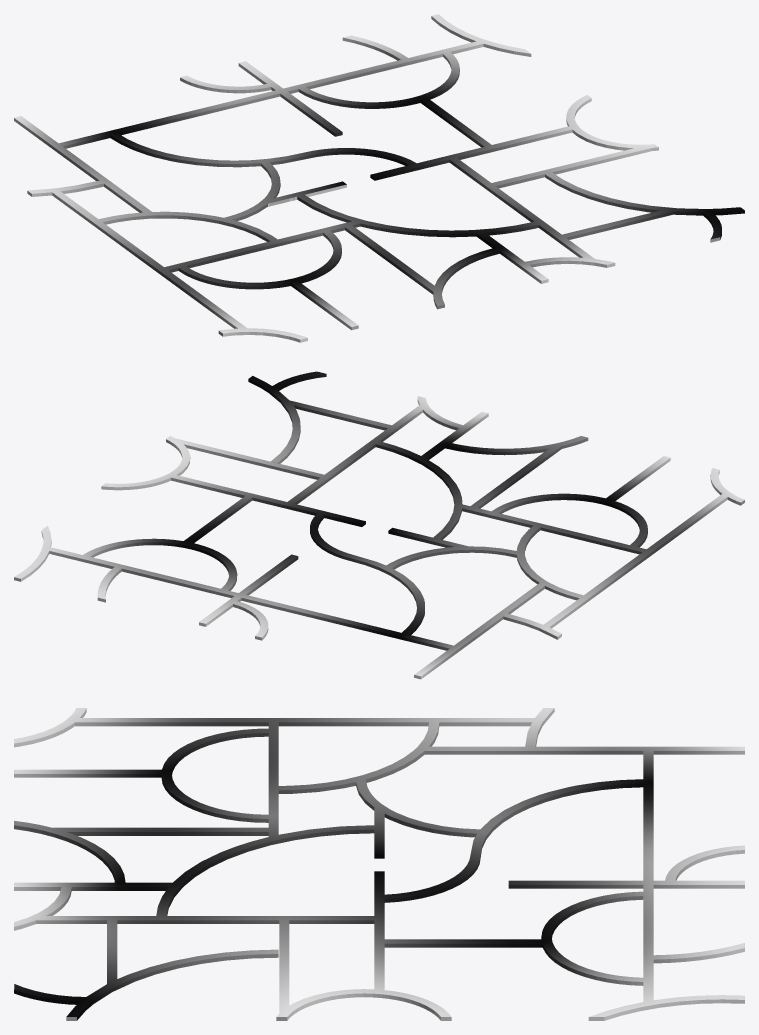
Rendered from Route.glb.
3 views of the same model, one above another, from view 1: azimuth 30°, elevation 25°; view 2: azimuth 150°, elevation 25°; view 3: azimuth 270°, elevation 25° (orthographic). The views are drawn at different scales.
Visible parts, largest first — view 1: Route; view 2: Route; view 3: Route.
Part boxes in pixels (x1,y1,x2,y2): Route: (14,14,744,342); Route: (14,371,744,679); Route: (14,708,744,1020).
Size of the model in its own units: 31.47 by 0.1826 by 31.47.
1 material, 1 textured.
